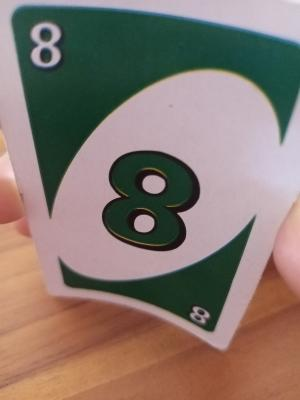green: (20, 9, 243, 319)
num_8: (17, 17, 76, 75)
